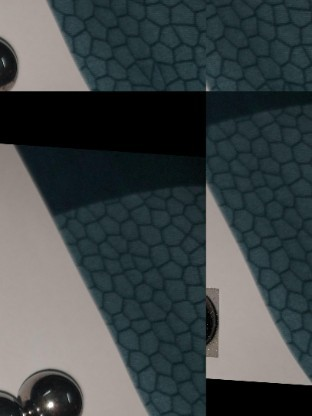ironball: (17, 364, 85, 414), (0, 36, 23, 88), (205, 282, 220, 355)
